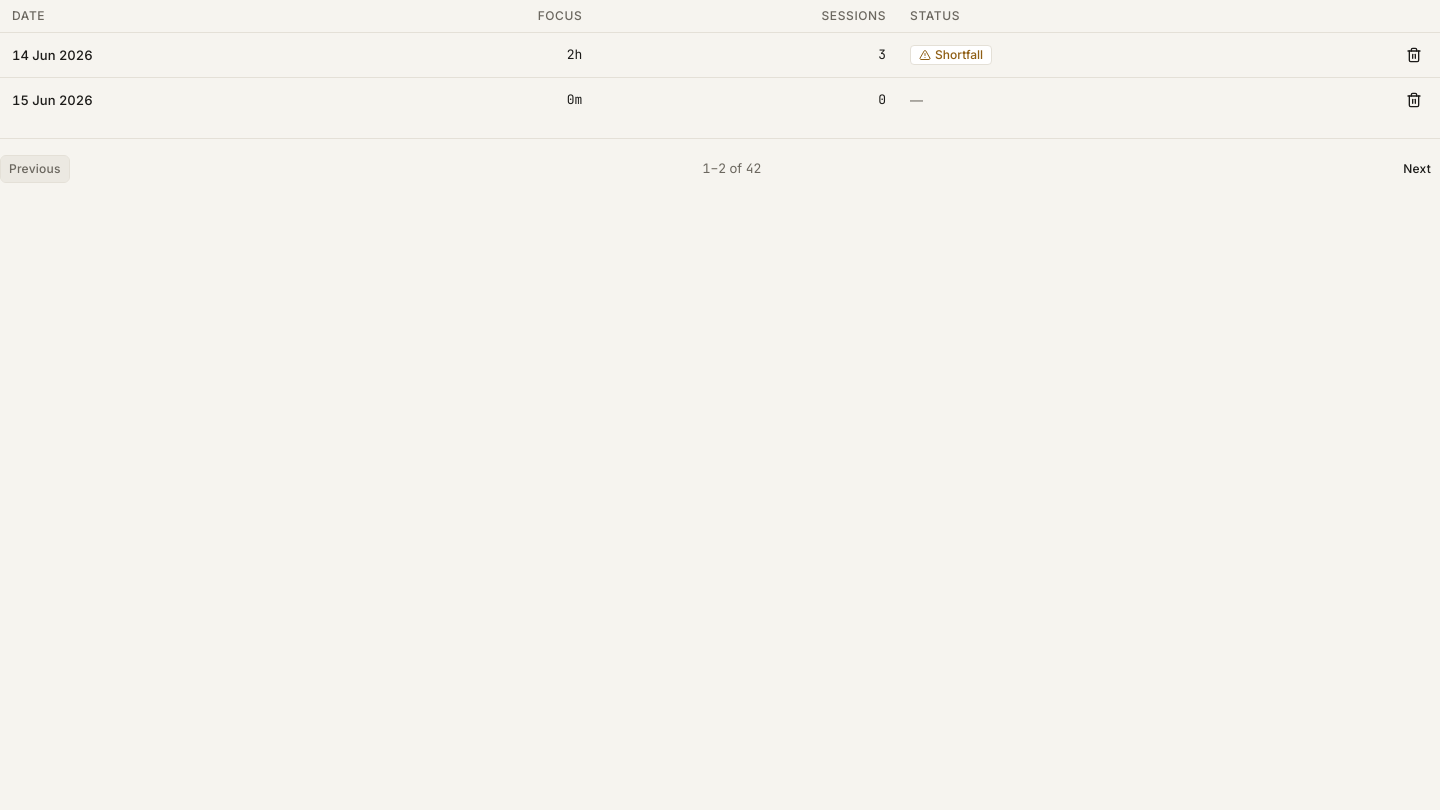
Scenario: PlanHistoryList › calls delete mutation only after confirmation
This screenshot has width=1440, height=810.
Later steps or results of the test are not shown.
Click the button named "delete plan for 14 jun 2026" at (1414, 55), box [1400,41,1428,69]
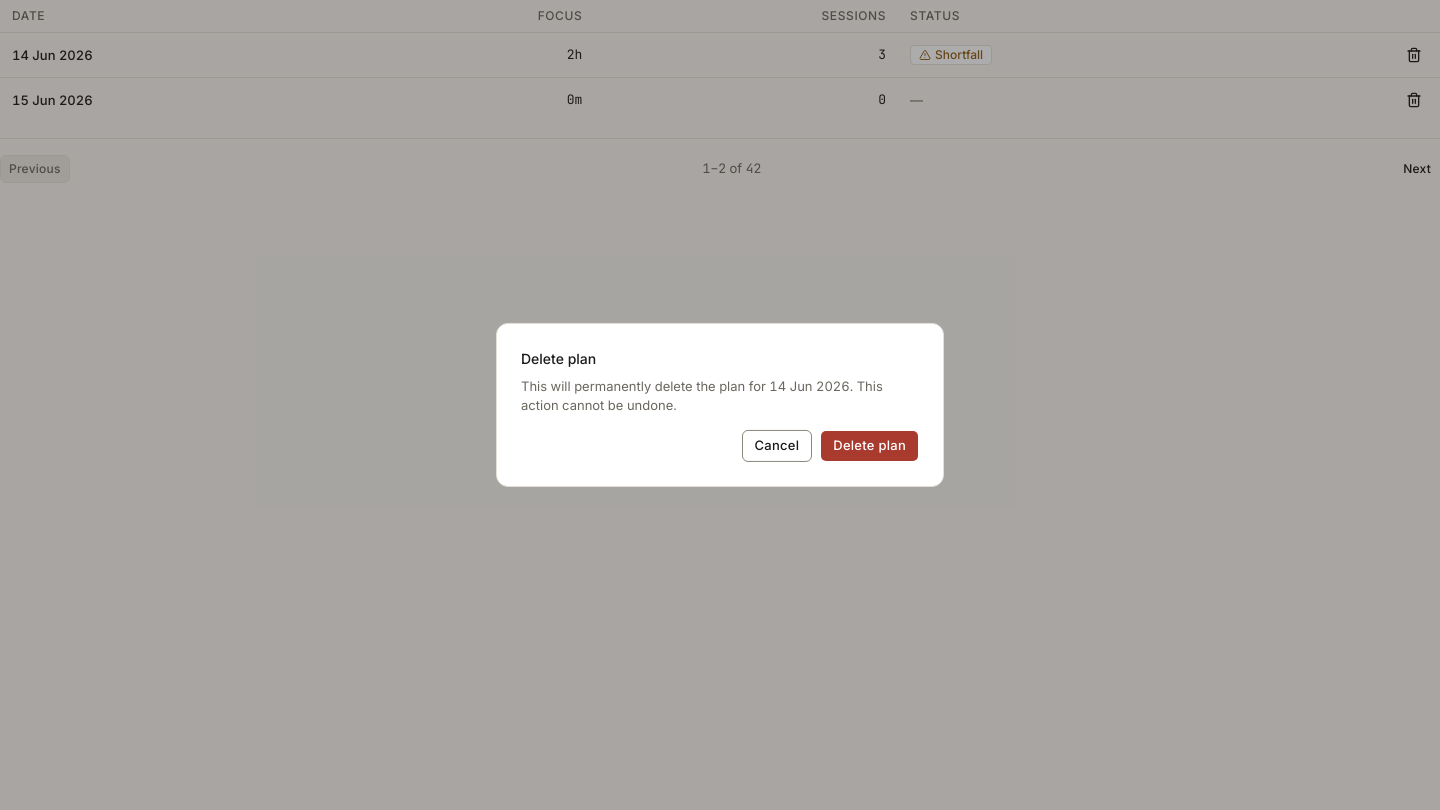
Now the dialog "Delete plan" is shown, box [496,323,944,487]
Now the text "plan for 14 Jun 2026" is shown, box [521,377,919,414]
